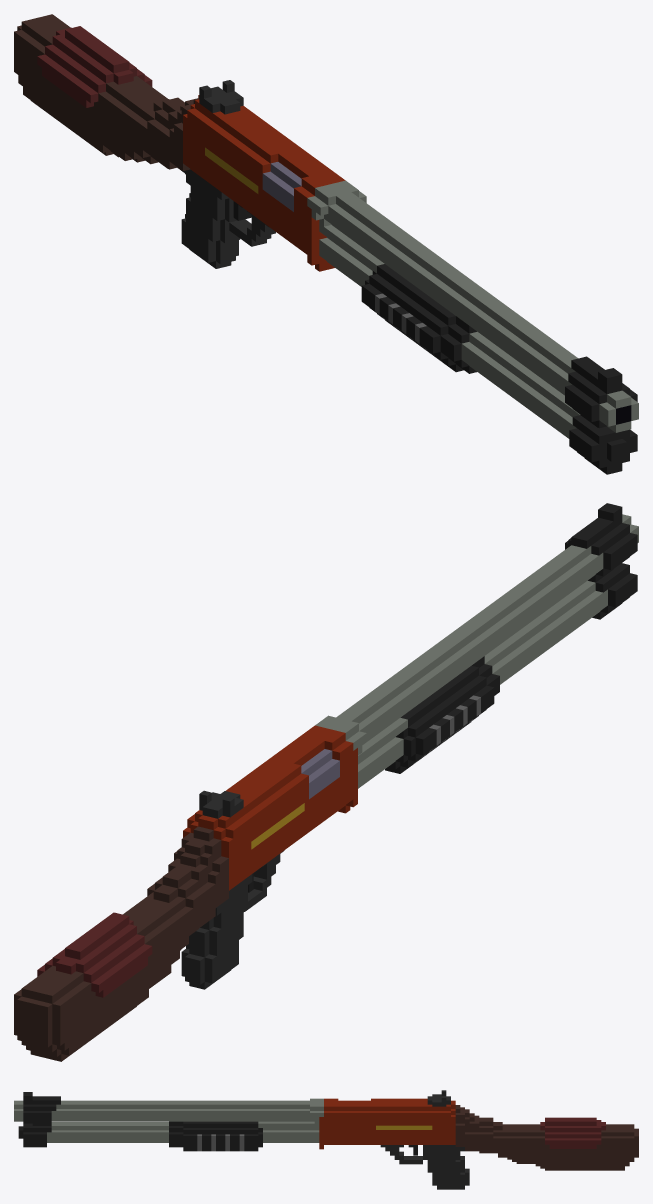
The model's file is дробовик.obj.
3 views of the same model, one above another, from view 1: azimuth 30°, elevation 25°; view 2: azimuth 150°, elevation 25°; view 3: azimuth 270°, elevation 25° (orthographic). The views are drawn at different scales.
Size of the model in its own units: 0.8 by 2.2 by 13.3.
Materials: 1 (1 with a texture image).
